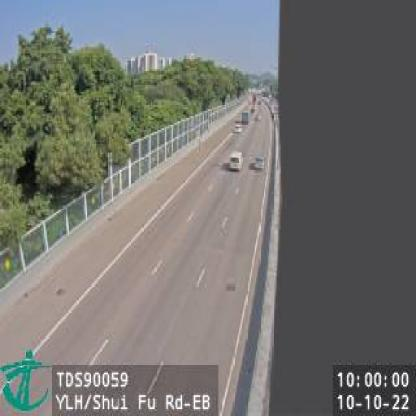Car: (228, 150, 244, 170), (252, 155, 265, 170), (233, 126, 240, 135)
